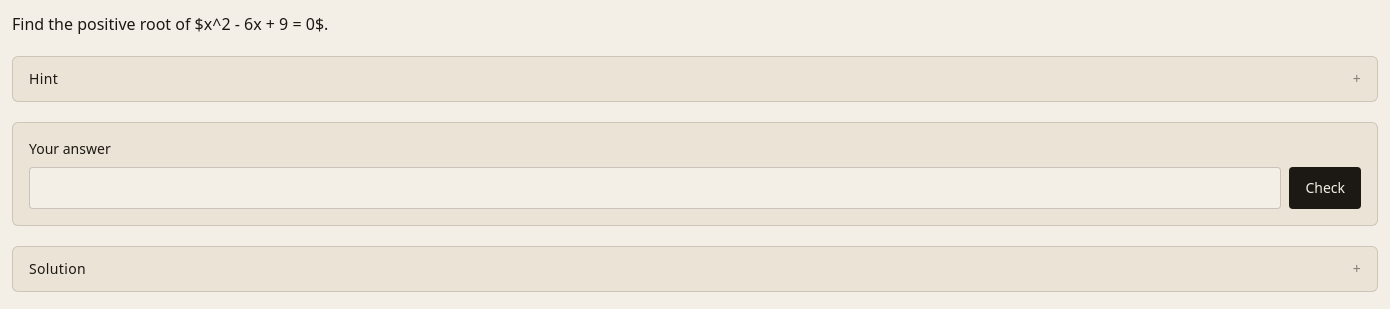
it: completing-the-square MDX › checks the sample answer
Type "3" into the field labelled "Your answer" at (655, 188), box [29,167,1281,209]
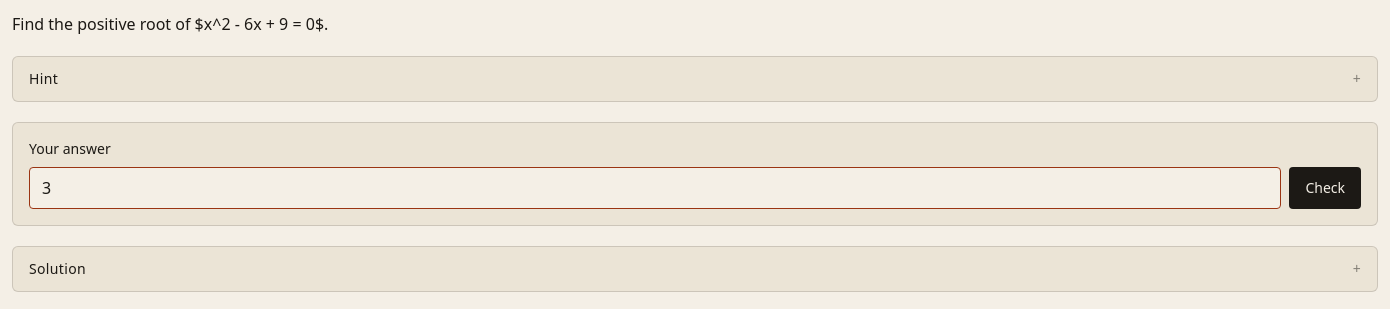
Click the button "Check" at (1325, 188), box [1289,167,1361,209]
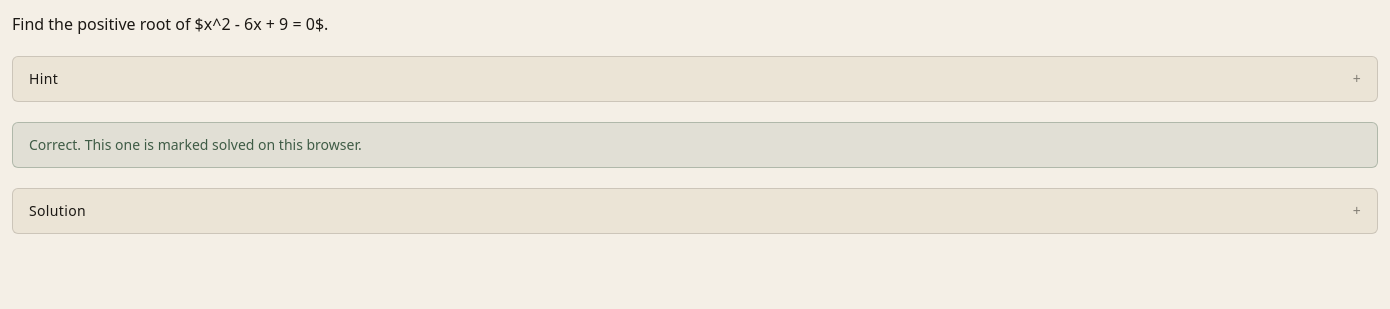
Check: the text "Correct. This one is marked solved on this browser." is shown, box [12,122,1378,168]
